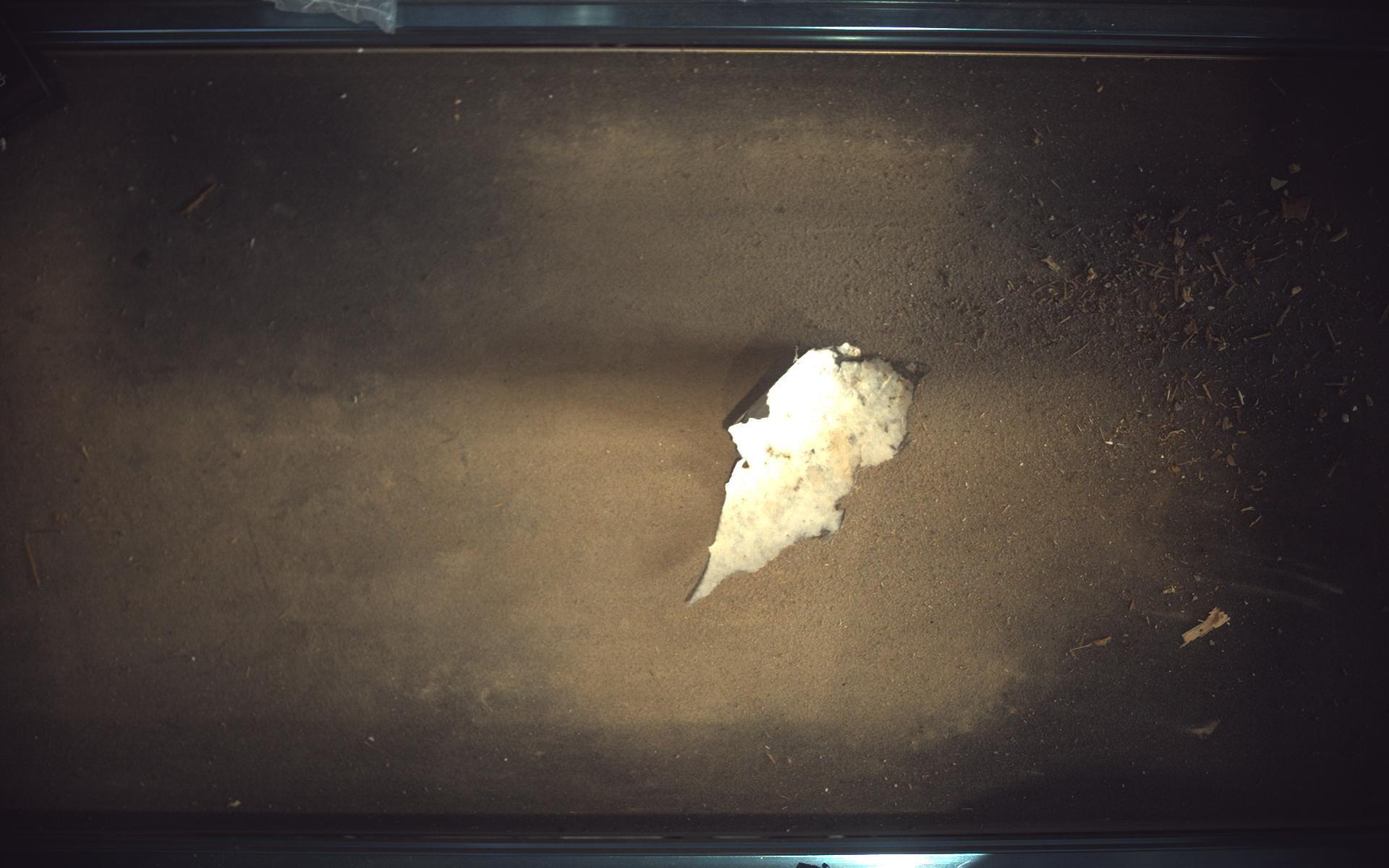general_w: (688, 344, 927, 603)
